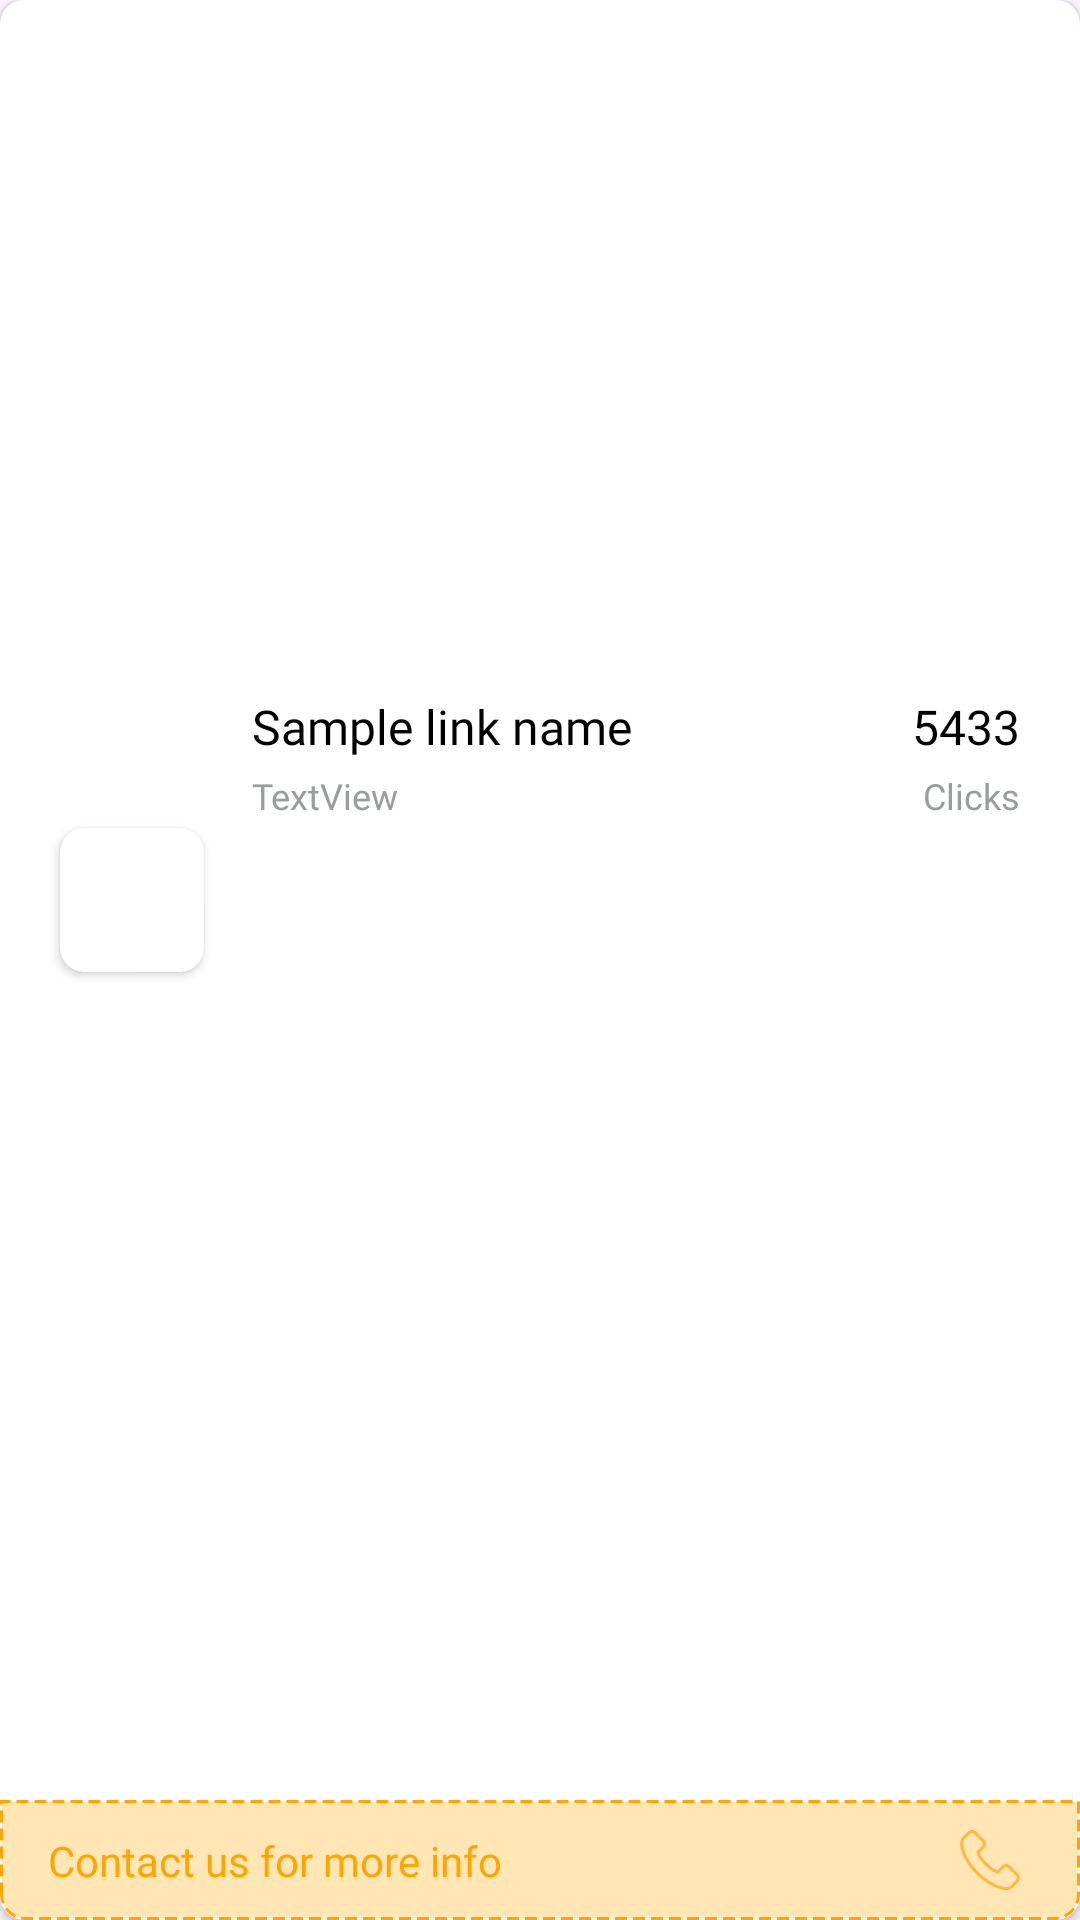

Locate icon controls on the screen. Image size 1080 x 1920, boxes as (x1, y1, x2, y2).
phone: (960, 1830, 1020, 1890)
